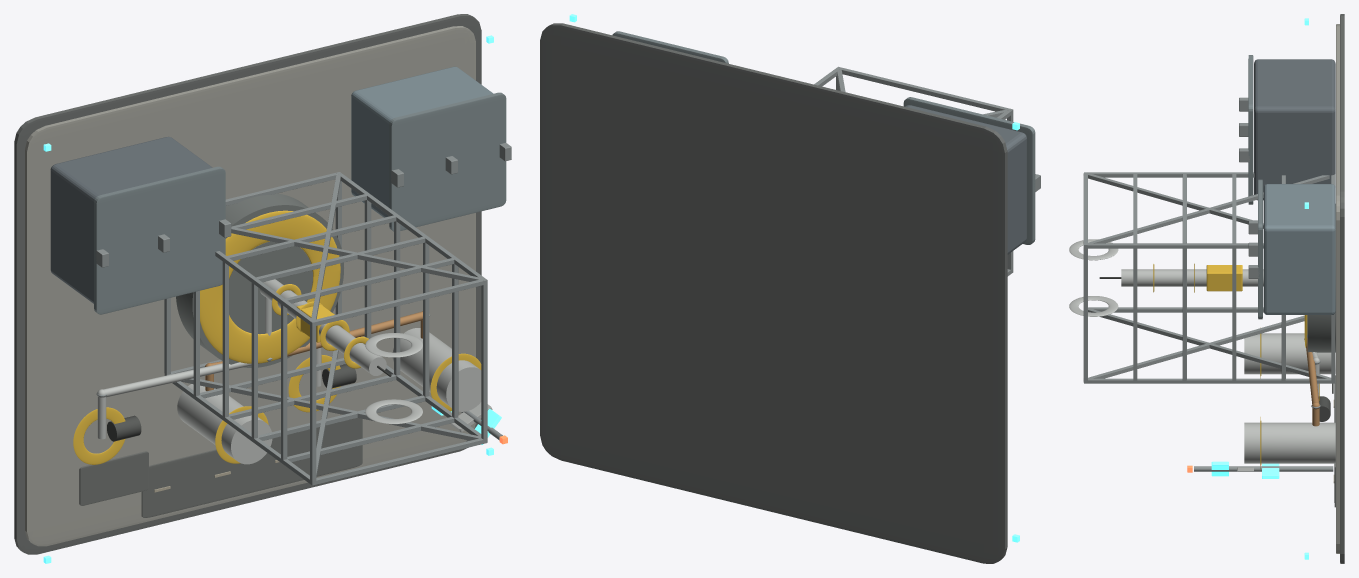
Rendered from b-53-core-drill-lod2.glb.
3 views of the same model, side by side, from view 1: azimuth 30°, elevation 25°; view 2: azimuth 150°, elevation 25°; view 3: azimuth 270°, elevation 25° (orthographic). The views are drawn at different scales.
Visible parts, largest first — view 1: foundation_inner_pad, core_analysis_module_roof, foundation, core_power_module_roof, core_analysis_module_main_hall, core_drill_access_road, core_power_module_main_hall, primary_rotary_table_base, primary_rotary_table, coolant_tank_3_vessel, coolant_tank_1_vessel, core_resource_pickup (+37 smaller); view 2: foundation, core_analysis_module_main_hall, core_analysis_module_roof, core_drilling_derrick_beam_x_5_n, core_power_module_roof; view 3: core_analysis_module_main_hall, core_power_module_main_hall, coolant_tank_3_vessel, foundation, coolant_tank_1_vessel, foundation_inner_pad, core_drill_column, core_drilling_derrick_column_e_s, core_drilling_derrick_brace_b_-3.1, core_drilling_derrick_brace_a_-3.1, core_drilling_derrick_brace_a_3.1, primary_rotary_table_base (+16 smaller).
Part boxes in pixels (left/top/right/bottom): foundation_inner_pad: left=25, top=26, right=475, bottom=546; core_analysis_module_roof: left=94, top=166, right=225, bottom=314; foundation: left=14, top=14, right=481, bottom=554; core_power_module_roof: left=389, top=92, right=506, bottom=231; core_analysis_module_main_hall: left=50, top=136, right=212, bottom=303; core_drill_access_road: left=141, top=418, right=362, bottom=517; core_power_module_main_hall: left=351, top=66, right=493, bottom=217; primary_rotary_table_base: left=176, top=193, right=343, bottom=367; primary_rotary_table: left=200, top=210, right=340, bottom=363; coolant_tank_3_vessel: left=392, top=328, right=481, bottom=411; coolant_tank_1_vessel: left=177, top=384, right=272, bottom=464; core_resource_pickup: left=79, top=451, right=148, bottom=505; foundation: left=540, top=23, right=1007, bottom=563; core_analysis_module_main_hall: left=905, top=105, right=1026, bottom=254; core_analysis_module_roof: left=903, top=97, right=1035, bottom=244; core_drilling_derrick_beam_x_5_n: left=840, top=67, right=1013, bottom=114; core_power_module_roof: left=612, top=31, right=728, bottom=63; core_analysis_module_main_hall: left=1254, top=59, right=1335, bottom=200; core_power_module_main_hall: left=1263, top=184, right=1335, bottom=314; coolant_tank_3_vessel: left=1244, top=422, right=1335, bottom=463; foundation: left=1340, top=14, right=1344, bottom=563; coolant_tank_1_vessel: left=1244, top=333, right=1335, bottom=374; foundation_inner_pad: left=1336, top=24, right=1339, bottom=553; core_drill_column: left=1121, top=269, right=1263, bottom=286; core_drilling_derrick_column_e_s: left=1087, top=378, right=1331, bottom=383; core_drilling_derrick_brace_b_-3.1: left=1088, top=309, right=1331, bottom=378; core_drilling_derrick_brace_a_-3.1: left=1088, top=315, right=1304, bottom=378; core_drilling_derrick_brace_a_3.1: left=1087, top=175, right=1329, bottom=243; primary_rotary_table_base: left=1307, top=204, right=1335, bottom=352.
Size of what is drawn, in the model's own units: 19 by 17 by 11.47.
